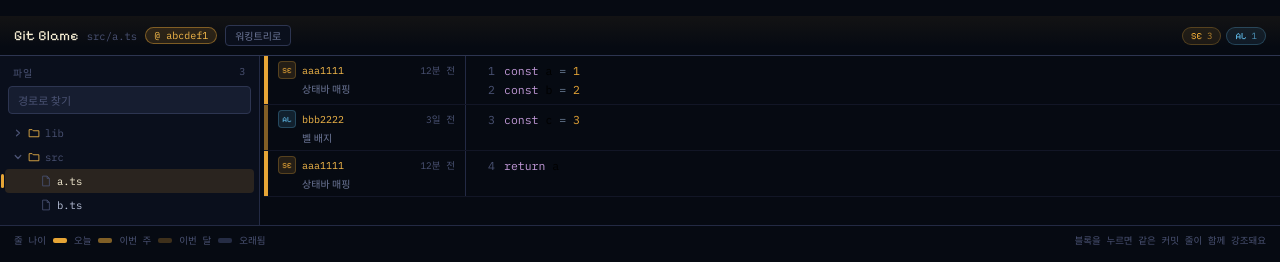
BlameView — 특정 시점 blame(rev) › '워킹트리로' 클릭 시 rev 없이 재조회하고 배지가 워킹트리로 바뀐다
Step 1. Click the button "워킹트리로" → (258, 36), box [225, 25, 291, 46]
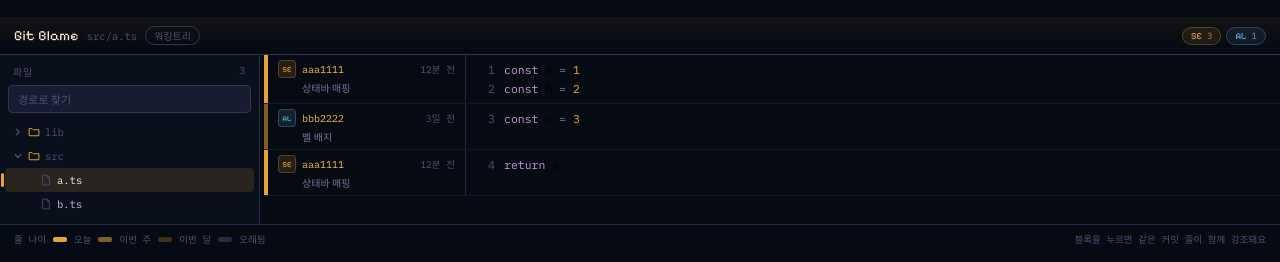
Check: the text with class "blame-rev" reads "워킹트리", box [154, 30, 191, 43]
Check: the button "워킹트리로" is gone
